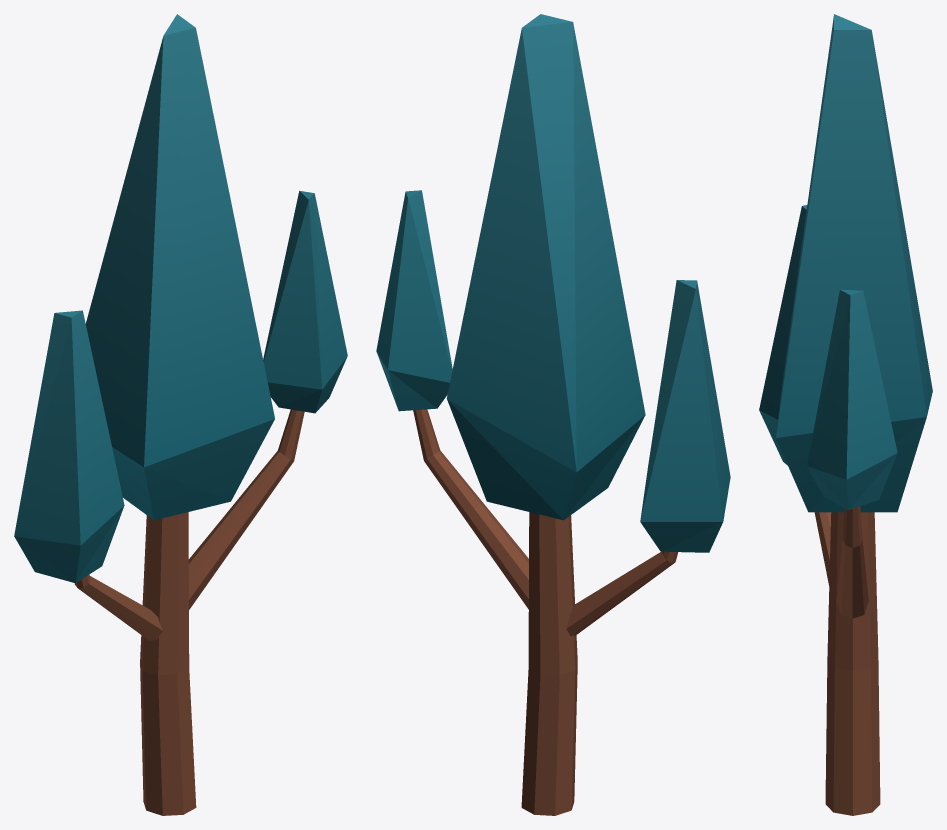
Rendered from Tree_50_gradient_blue_vc.fbx.
3 views of the same model, side by side, from view 1: azimuth 30°, elevation 25°; view 2: azimuth 150°, elevation 25°; view 3: azimuth 270°, elevation 25° (orthographic).
Parts seen in each view (by area): view 1: Tree_50_gradient_blue_vc; view 2: Tree_50_gradient_blue_vc; view 3: Tree_50_gradient_blue_vc.
Part boxes in pixels (x1=…): Tree_50_gradient_blue_vc: x1=14, y1=14, x2=347, y2=815; Tree_50_gradient_blue_vc: x1=376, y1=14, x2=730, y2=815; Tree_50_gradient_blue_vc: x1=759, y1=14, x2=932, y2=815.
Bounding box in the file's own units: 118 × 259 × 52.22.
